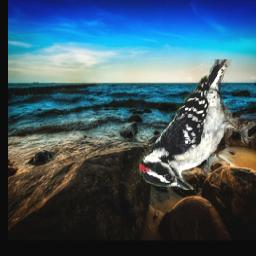Woodpecker: (137, 59, 256, 190)
